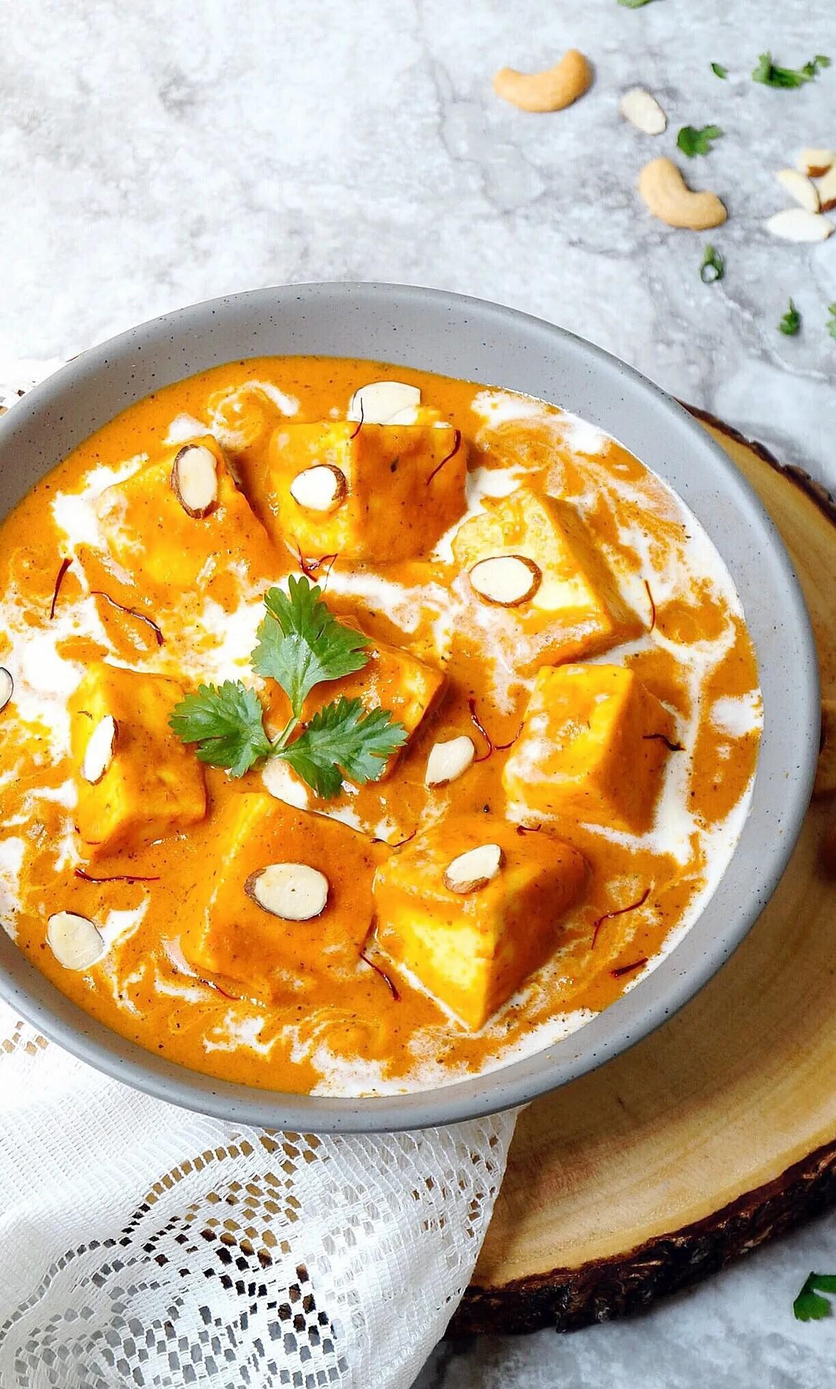ShahiPaneer: (25, 341, 791, 1064)
